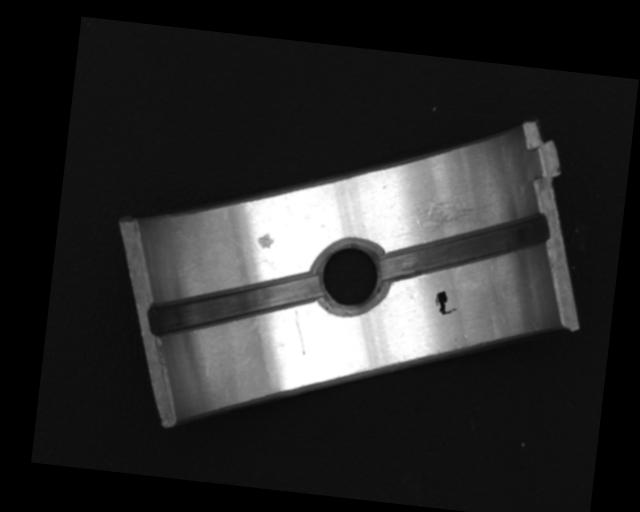blot: (433, 288, 460, 317)
bruise: (256, 230, 276, 250)
gap: (378, 196, 551, 297)
hole: (147, 254, 325, 353), (311, 240, 392, 318)
nick: (288, 306, 311, 355)
scratch: (395, 194, 492, 252)
